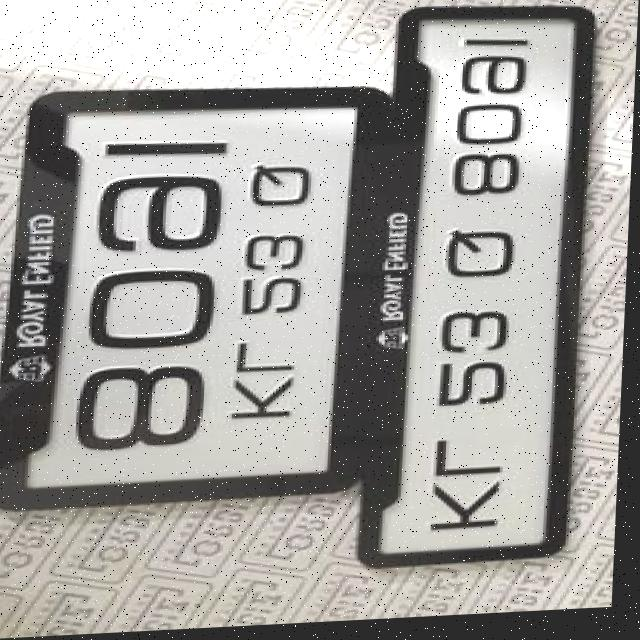plate: (0, 78, 395, 515), (363, 5, 600, 577)
